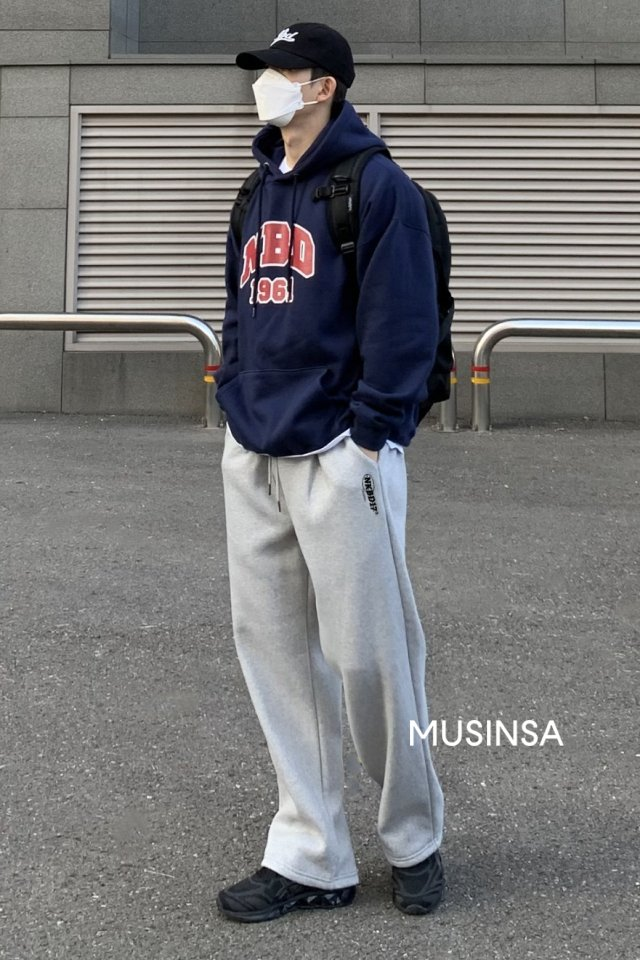Backpack: (340, 155, 454, 409)
Cap: (227, 15, 360, 77)
Hoodie: (211, 96, 442, 443)
Mask: (250, 69, 326, 121)
Shoes: (212, 845, 452, 928)
Training pants: (228, 414, 430, 879)
